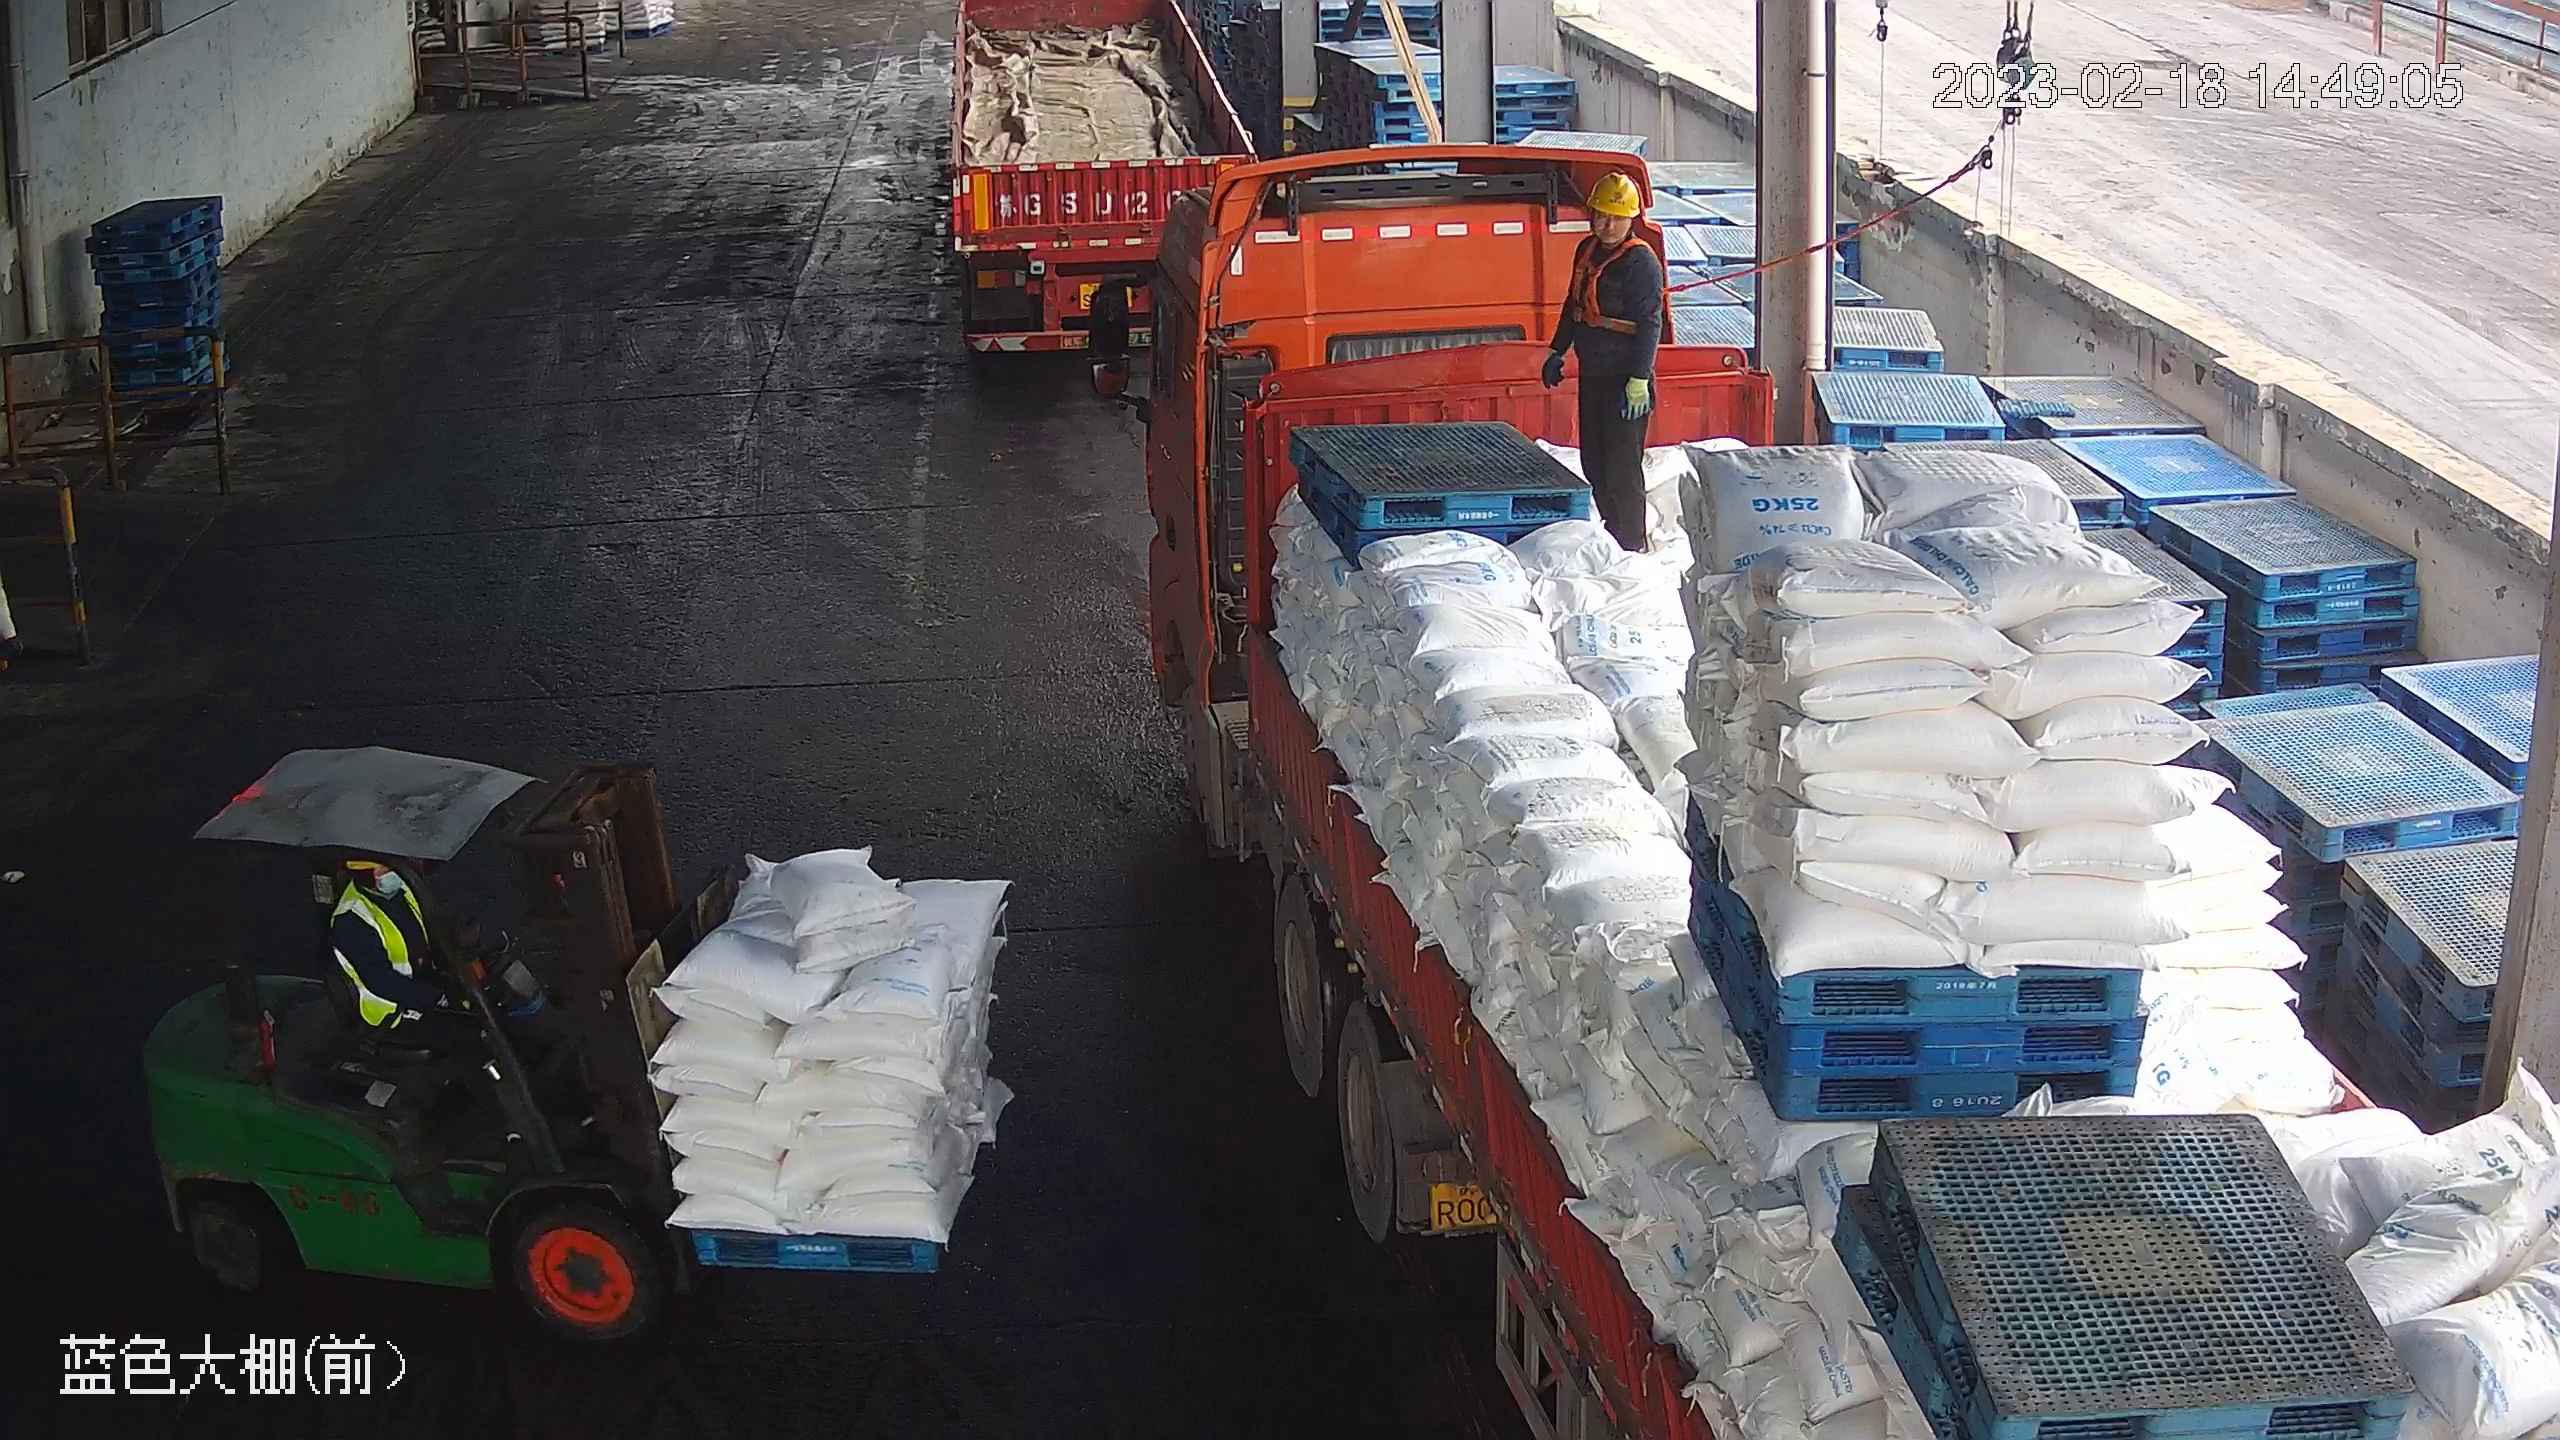belt: (1565, 231, 1658, 333)
head: (1561, 167, 1670, 293), (324, 848, 430, 941)
helmet: (1587, 167, 1648, 218)
people: (1538, 164, 1673, 558)
truck: (1043, 156, 2554, 1440), (929, 3, 1266, 375)
